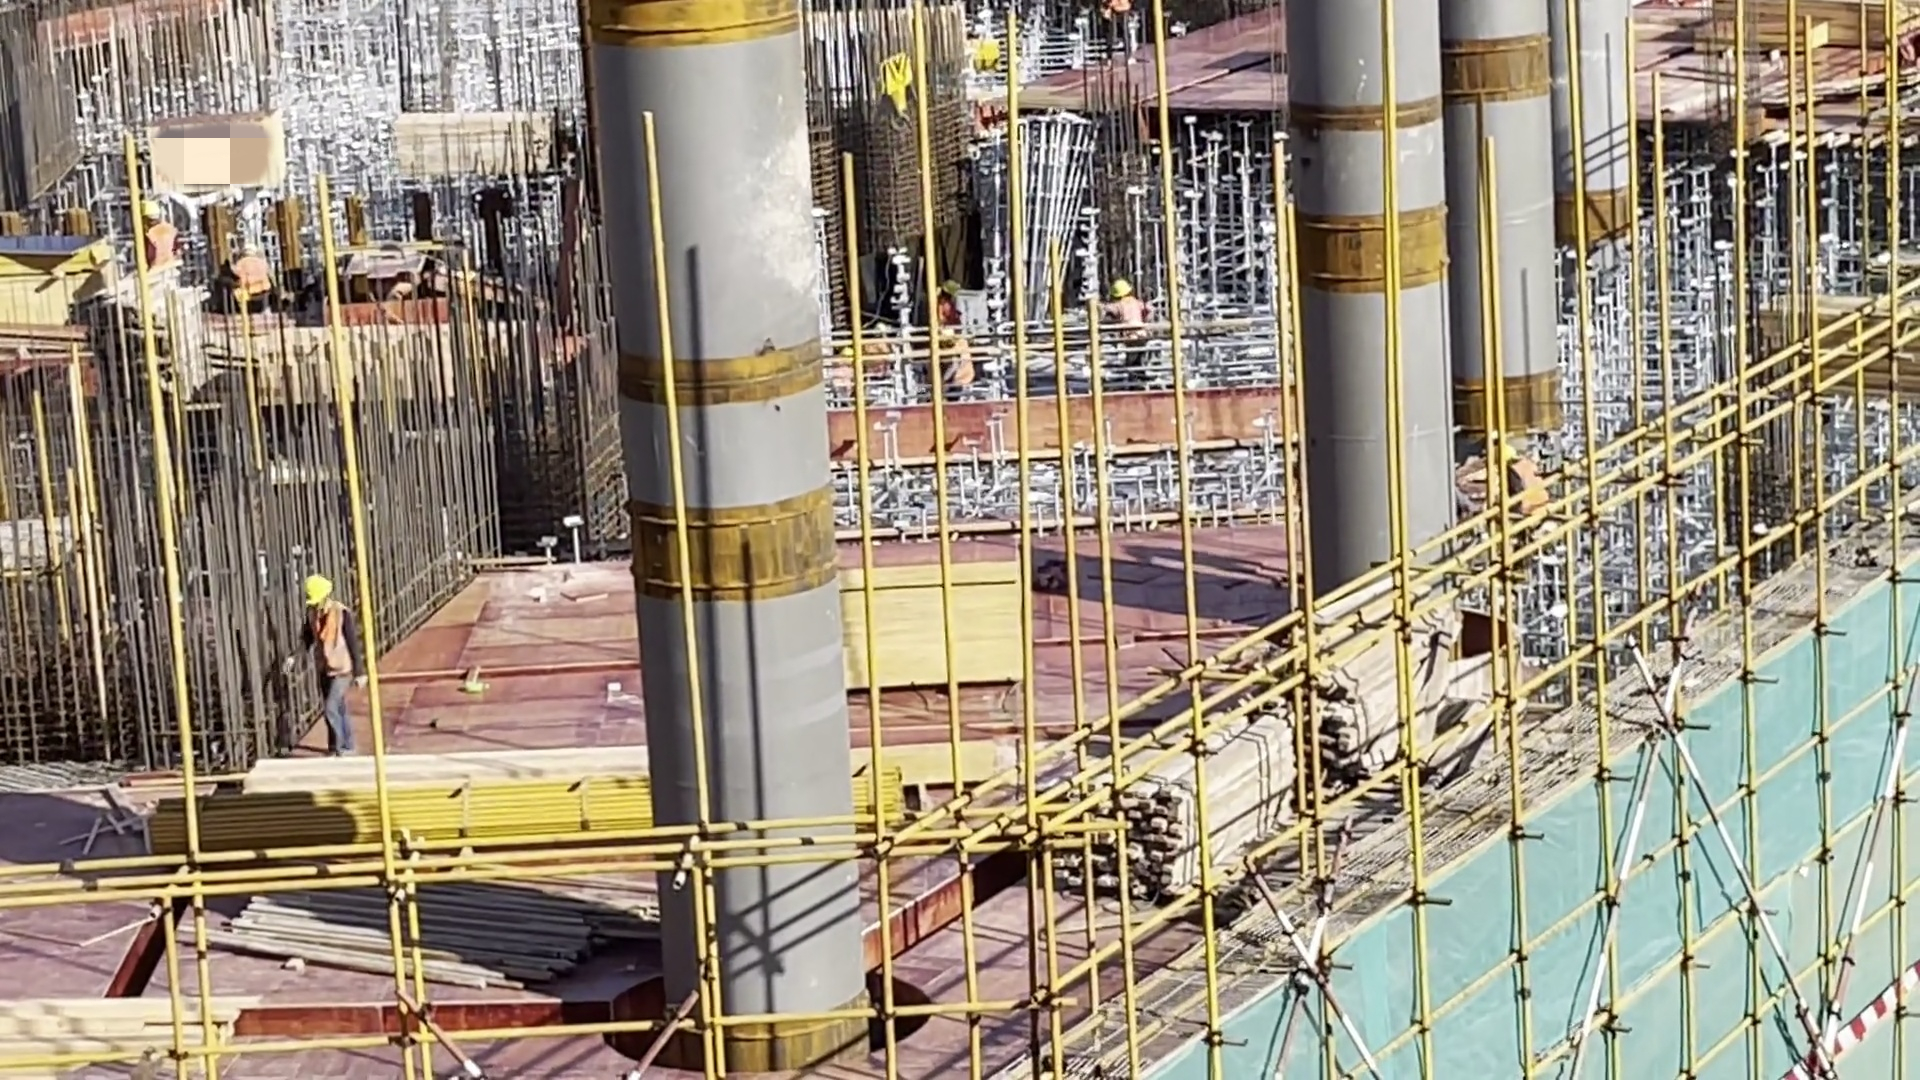helmet: (300, 575, 325, 611), (1101, 274, 1133, 300), (137, 190, 163, 220), (939, 277, 961, 299)
hook: (874, 49, 933, 135)
person: (287, 575, 368, 758), (1100, 279, 1162, 368), (932, 325, 983, 405), (132, 197, 181, 263)
vest: (1107, 301, 1145, 338)
wood: (1030, 683, 1314, 894), (211, 853, 623, 993), (1271, 571, 1506, 790)
